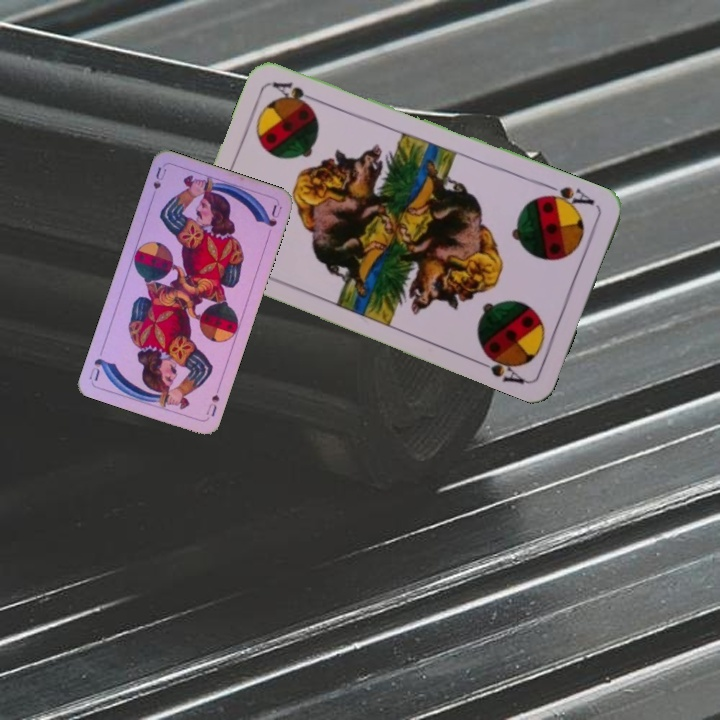SA: (539, 180, 597, 214)
SU: (202, 381, 223, 419), (149, 163, 169, 192)
